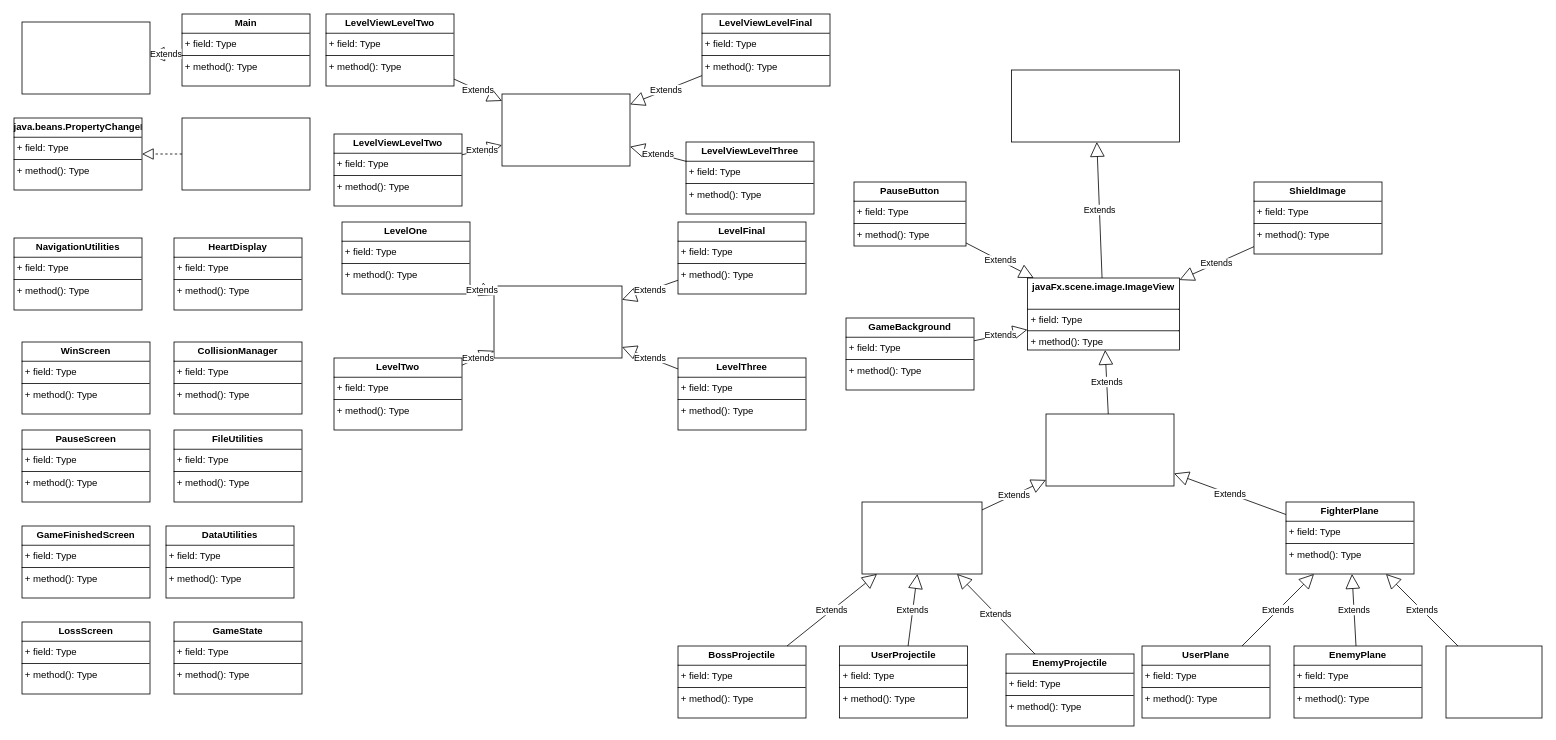
The diagram is 1556 pixels wide and 740 high, and some of its shapes have lost their labels. The centre of each missing label's shape, as x and y in pixels:
ActiveActor + field: Type + method(): Type: the point at 1109,449
Boss + field: Type + method(): Type: the point at 1493,681
javafx.application.Application + field: Type + method(): Type: the point at 85,57
javaFx.scene.Node + field: Type + method(): Type: the point at 1095,105
LevelParent + field: Type + method(): Type: the point at 557,321
LevelView + field: Type + method(): Type: the point at 565,129
Projectile + field: Type + method(): Type: the point at 921,537
StageManager + field: Type + method(): Type: the point at 245,153
